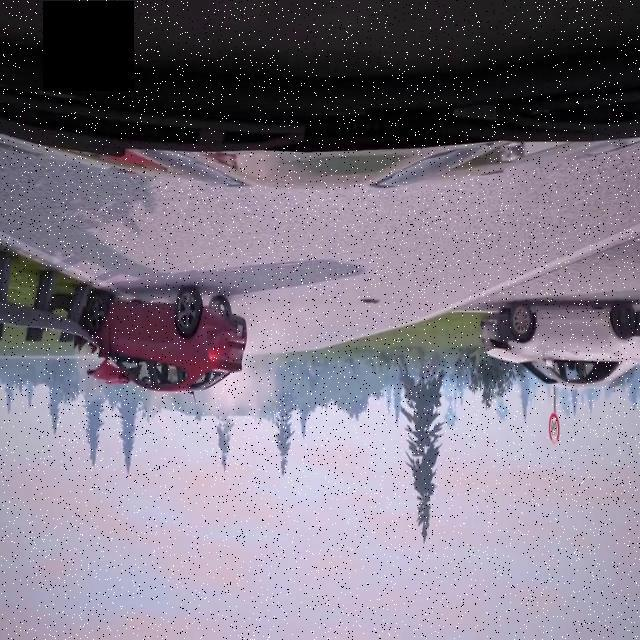moderate: (68, 284, 248, 400)
